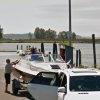Boat: (4, 45, 70, 80)
